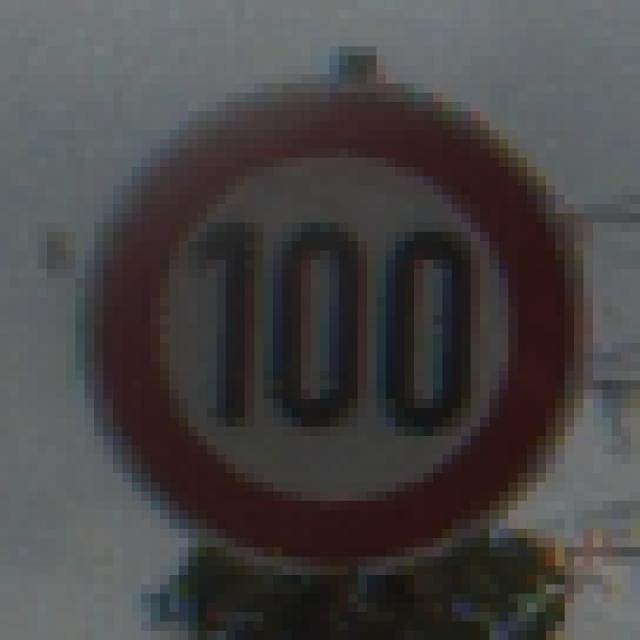speed limit 100: (71, 76, 598, 572)
